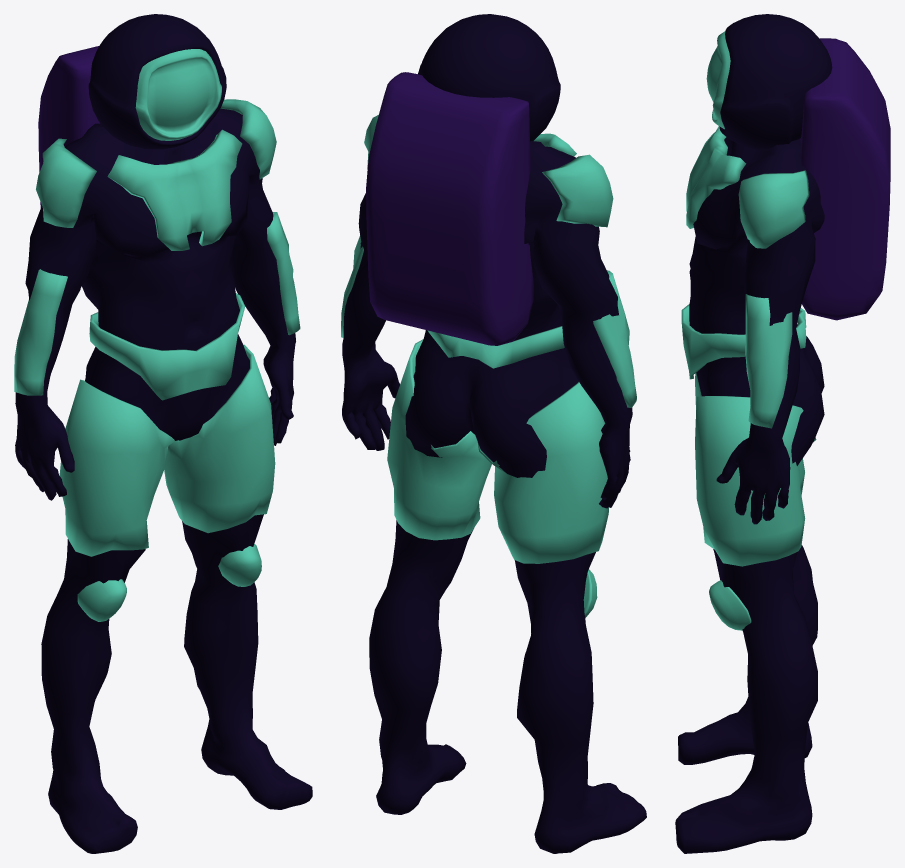
File: Polo.fbx
3 views of the same model, side by side, from view 1: azimuth 30°, elevation 25°; view 2: azimuth 150°, elevation 25°; view 3: azimuth 270°, elevation 25° (orthographic). The views are drawn at different scales.
Parts seen in each view (by area): view 1: kaedim_mesh_0_Mesh, kaedim_mesh_0_Mesh.012, kaedim_mesh_0_Mesh.006, kaedim_mesh_0_Mesh.007, kaedim_mesh_0_Mesh.001, kaedim_mesh_0_Mesh.013, kaedim_mesh_0_Mesh.005, kaedim_mesh_0_Mesh.008, kaedim_mesh_0_Mesh.011, kaedim_mesh_0_Mesh.009, kaedim_mesh_0_Mesh.002, kaedim_mesh_0_Mesh.004 (+2 smaller); view 2: kaedim_mesh_0_Mesh, kaedim_mesh_0_Mesh.008, kaedim_mesh_0_Mesh.012, kaedim_mesh_0_Mesh.001, kaedim_mesh_0_Mesh.006, kaedim_mesh_0_Mesh.009, kaedim_mesh_0_Mesh.005, kaedim_mesh_0_Mesh.011; view 3: kaedim_mesh_0_Mesh, kaedim_mesh_0_Mesh.008, kaedim_mesh_0_Mesh.001, kaedim_mesh_0_Mesh.006, kaedim_mesh_0_Mesh.004, kaedim_mesh_0_Mesh.002, kaedim_mesh_0_Mesh.007, kaedim_mesh_0_Mesh.005, kaedim_mesh_0_Mesh.013, kaedim_mesh_0_Mesh.003.
Boxes of the visible parts, x1,y1,x2,y2 form: kaedim_mesh_0_Mesh: (15,108,312,853); kaedim_mesh_0_Mesh.012: (59,379,174,556); kaedim_mesh_0_Mesh.006: (164,344,275,533); kaedim_mesh_0_Mesh.007: (107,129,242,250); kaedim_mesh_0_Mesh.001: (88,14,226,149); kaedim_mesh_0_Mesh.013: (135,49,221,140); kaedim_mesh_0_Mesh.005: (89,293,245,400); kaedim_mesh_0_Mesh.008: (38,46,99,207); kaedim_mesh_0_Mesh.011: (14,269,67,395); kaedim_mesh_0_Mesh.009: (36,138,96,227); kaedim_mesh_0_Mesh.002: (220,99,276,179); kaedim_mesh_0_Mesh.004: (267,212,300,335); kaedim_mesh_0_Mesh: (342,141,646,853); kaedim_mesh_0_Mesh.008: (366,72,533,345); kaedim_mesh_0_Mesh.012: (477,382,608,563); kaedim_mesh_0_Mesh.001: (418,14,560,141); kaedim_mesh_0_Mesh.006: (387,339,491,540); kaedim_mesh_0_Mesh.009: (542,154,613,227); kaedim_mesh_0_Mesh.005: (427,326,564,368); kaedim_mesh_0_Mesh.011: (593,270,636,407); kaedim_mesh_0_Mesh: (675,137,824,853); kaedim_mesh_0_Mesh.008: (800,38,890,320); kaedim_mesh_0_Mesh.001: (719,14,832,149); kaedim_mesh_0_Mesh.006: (695,396,816,566); kaedim_mesh_0_Mesh.004: (745,294,792,428); kaedim_mesh_0_Mesh.002: (738,170,809,248); kaedim_mesh_0_Mesh.007: (686,126,746,228); kaedim_mesh_0_Mesh.005: (681,304,806,379); kaedim_mesh_0_Mesh.013: (706,31,730,129); kaedim_mesh_0_Mesh.003: (709,580,751,630).
Bounding box in the file's own units: 75.36 × 200 × 49.9.
